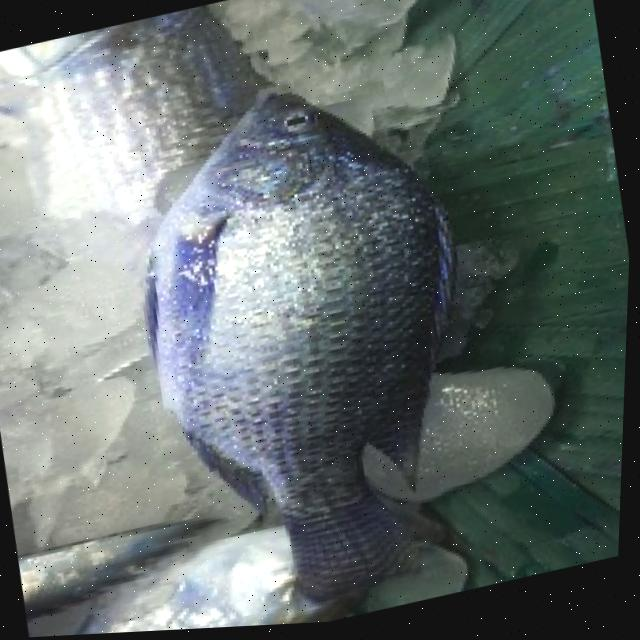Fresh: (78, 68, 527, 636)
